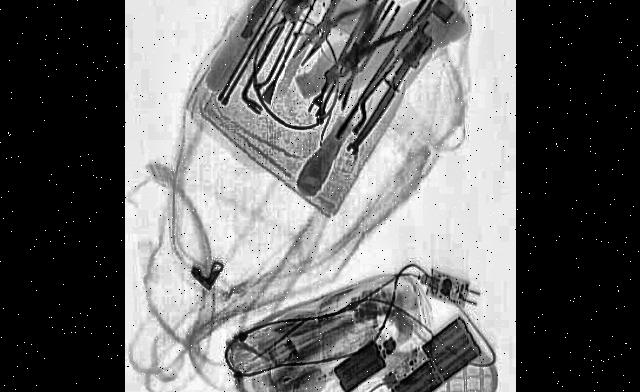Pliers: (284, 0, 390, 96), (329, 0, 429, 95)
